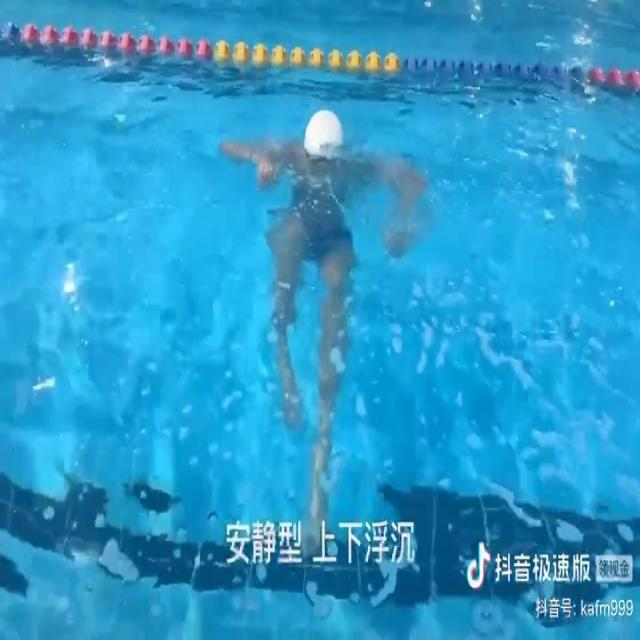Drowning: (219, 104, 427, 520)
